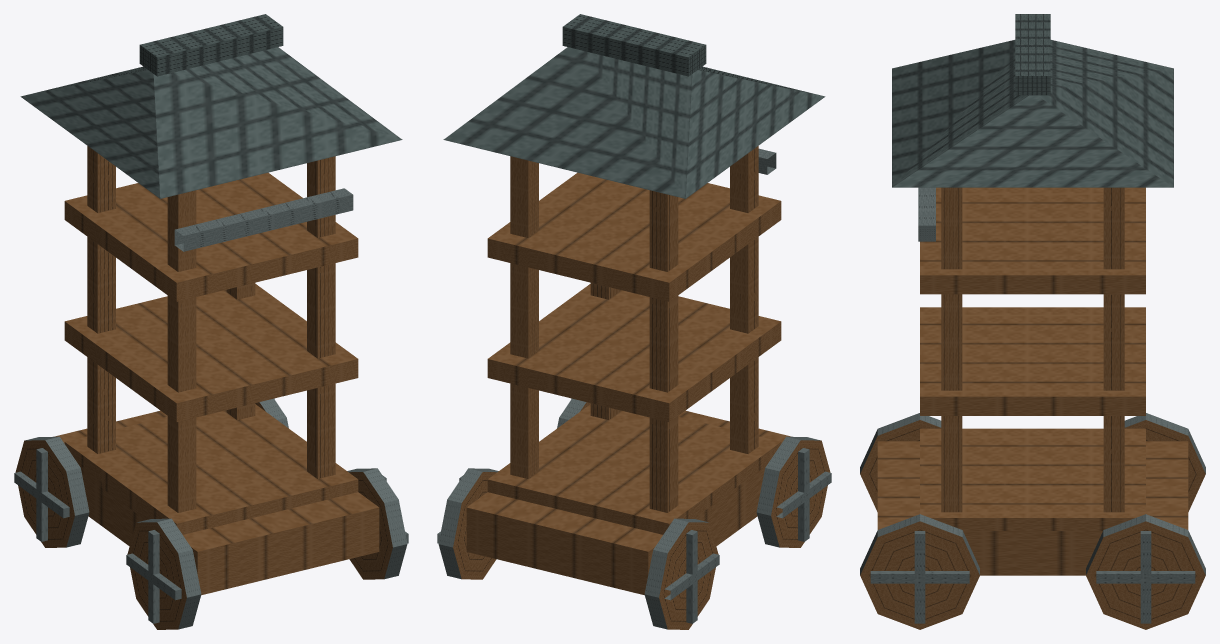
The model's file is unit-SIEGE_TOWER-lod1.glb.
3 views of the same model, side by side, from view 1: azimuth 30°, elevation 25°; view 2: azimuth 150°, elevation 25°; view 3: azimuth 270°, elevation 25° (orthographic).
Size of the model in its own units: 0.4 by 0.83 by 0.49.
Materials: 1 (1 with a texture image).
